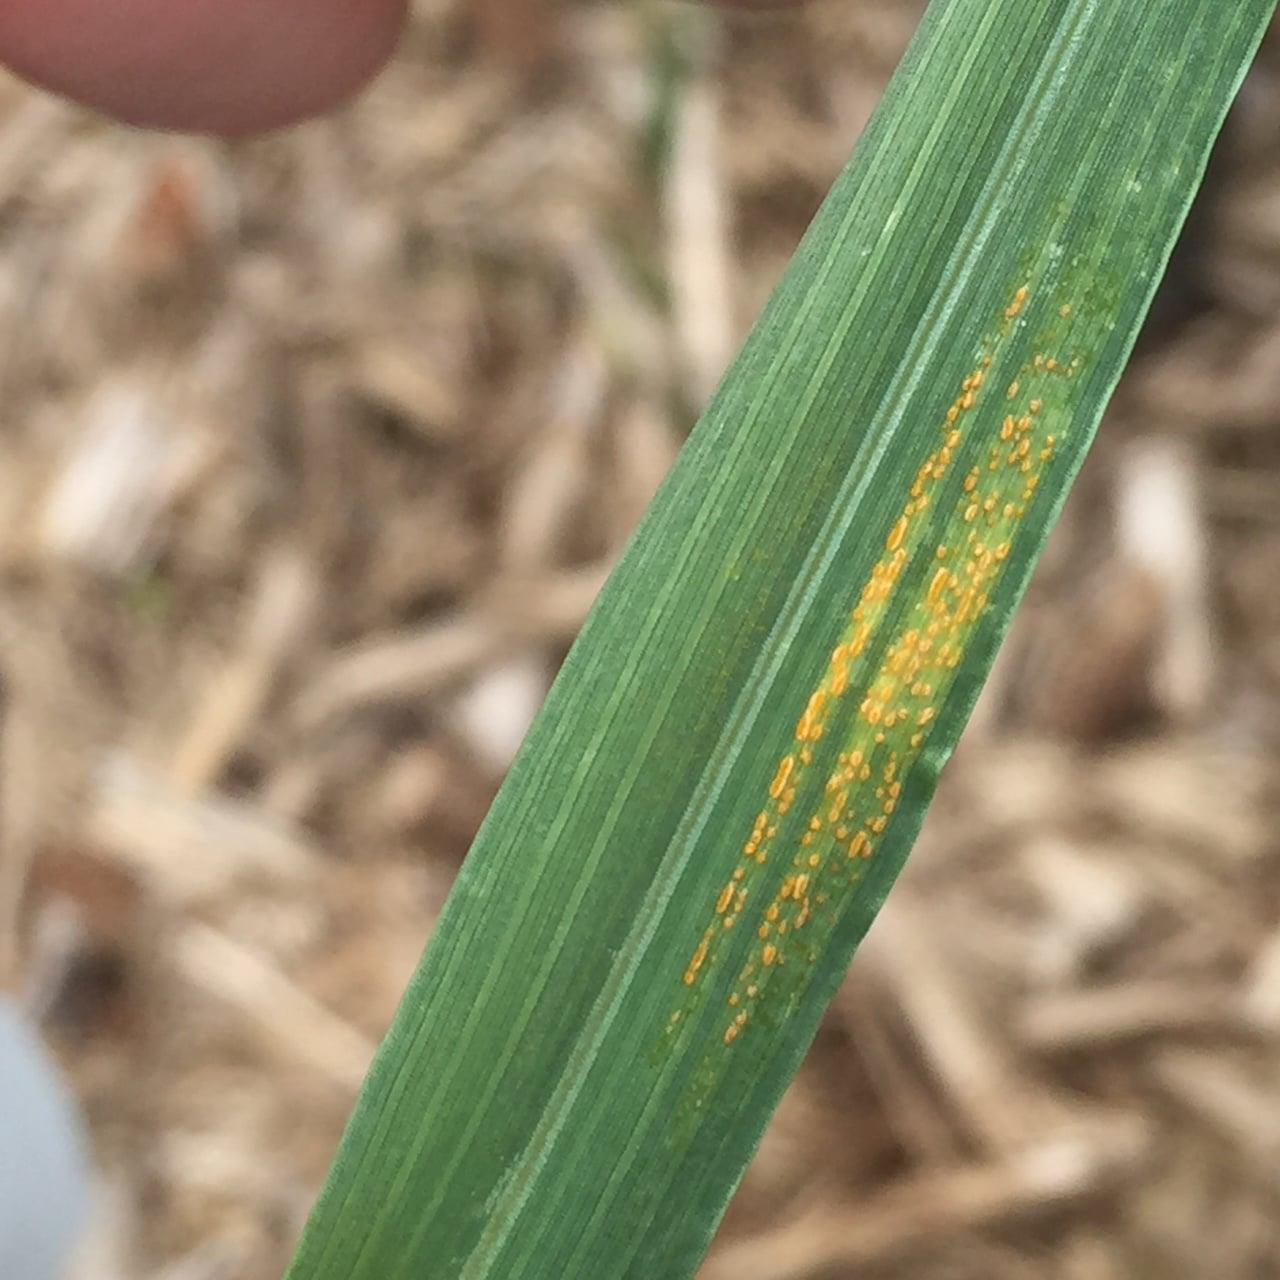Corn rust leaf: (417, 9, 1273, 1280)
